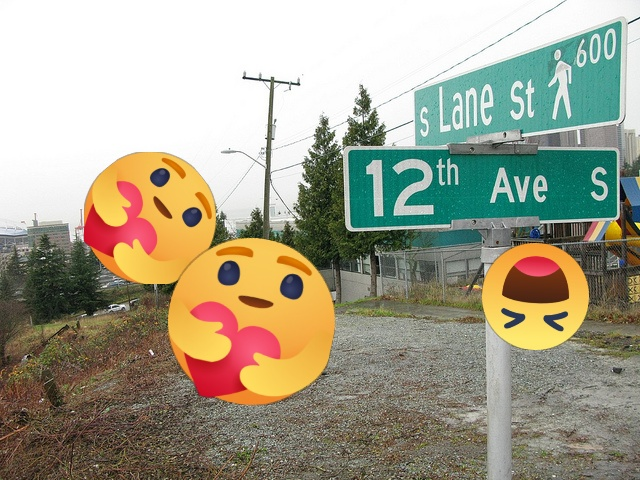care: (168, 238, 335, 405), (84, 152, 216, 284)
haha: (482, 243, 589, 350)
